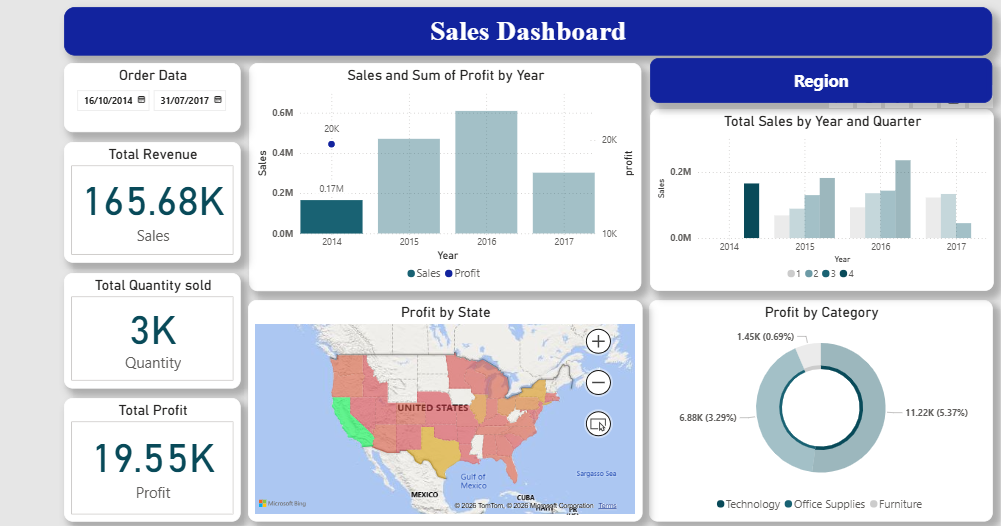

Layout of this report page (visuals, bound fields, positions):
{"tool":"powerbi","page":{"name":"Sales","canvas":[1280,720],"ordinal":0},"visuals":[{"type":"textbox","box":[7.3,11.7,1261.5,65.9],"z":0},{"type":"lineClusteredColumnComboChart","title":"Sales and Sum of Profit by Year","fields":{"Category":["Orders.Year"],"Y":["Sum(Orders.Sales)"],"Y2":["Sum(Orders.Profit)"]},"box":[257.6,87.8,532.7,310.2],"z":1000},{"type":"donutChart","title":"Profit by Category","fields":{"Category":["Orders.Category"],"Y":["Sum(Orders.Profit)"]},"box":[802,409.8,466.8,301.5],"z":2000},{"type":"slicer","title":"Order Data","fields":{"Values":["Orders.Order Date"]},"box":[7.3,87.8,240,93.7],"z":3000},{"type":"cardVisual","title":"Total Revenue","fields":{"Data":["Sum(Orders.Sales)"]},"box":[7.3,196.1,240,163.9],"z":4000},{"type":"cardVisual","title":"Total Quantity sold","fields":{"Data":["Sum(Orders.Quantity)"]},"box":[7.3,373.2,240,156.6],"z":5000},{"type":"cardVisual","title":"Total Profit","fields":{"Data":["Sum(Orders.Profit)"]},"box":[7.3,542.9,240,168.3],"z":6000},{"type":"clusteredColumnChart","title":"Total Sales by Year and Quarter","fields":{"Category":["Orders.Year"],"Y":["Sum(Orders.Sales)"],"Series":["Orders.Quarter"]},"box":[803.4,150.7,466.8,247.3],"z":7000},{"type":"filledMap","fields":{"Category":["Orders.State"]},"box":[256.1,409.8,535.6,301.5],"z":8000},{"type":"actionButton","box":[803.4,82,465.4,61.5],"z":9000}]}

Visuals, with their boxes in screenshot pixels (x1, y1, x2, y2):
textbox: 55/4/998/53
"Sales and Sum of Profit by Year" lineClusteredColumnComboChart: 242/60/640/292
"Profit by Category" donutChart: 649/301/998/525
"Order Data" slicer: 55/60/234/131
"Total Revenue" cardVisual: 55/141/234/264
"Total Quantity sold" cardVisual: 55/274/234/391
"Total Profit" cardVisual: 55/401/234/525
"Total Sales by Year and Quarter" clusteredColumnChart: 650/107/999/292
filledMap - Orders.State: 241/301/642/525
actionButton: 650/56/998/102
